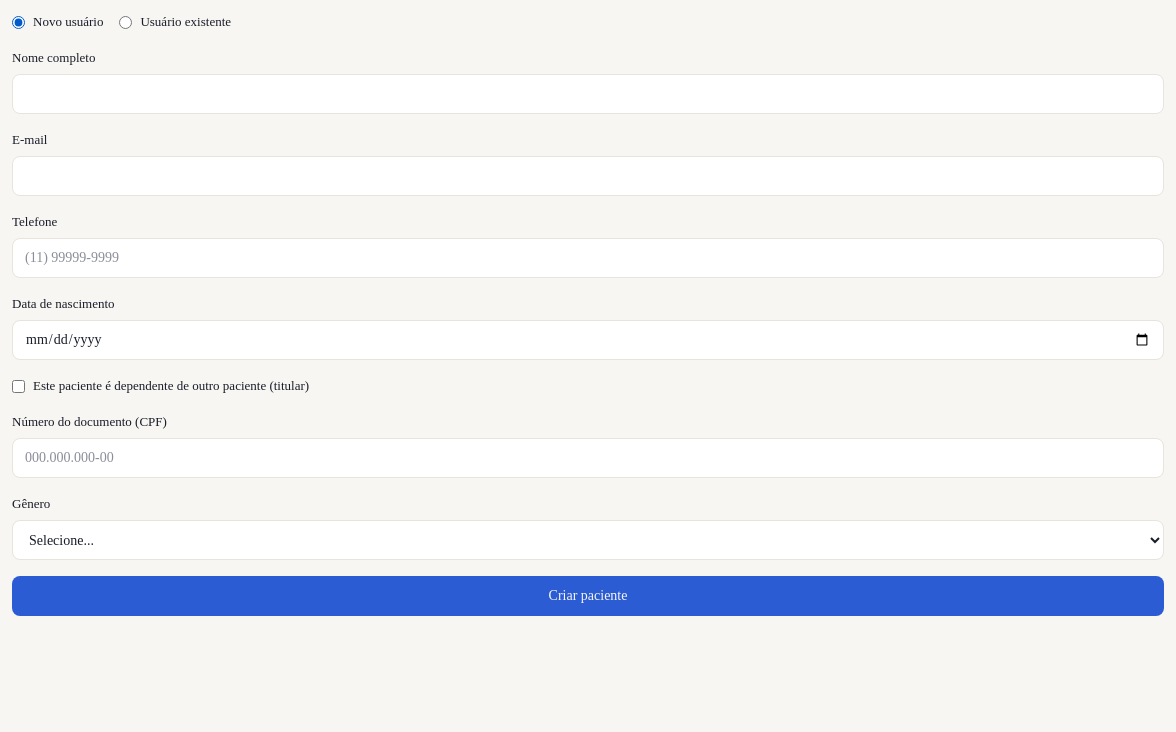
Test: PatientForm (integration) — create mode › switches back to new user mode and restores fullName/email fields
This screenshot has width=1176, height=732.
Click the radio button with test id "patient-form-user-mode-existing".
click(126, 22)  # box 119,16 -> 132,28
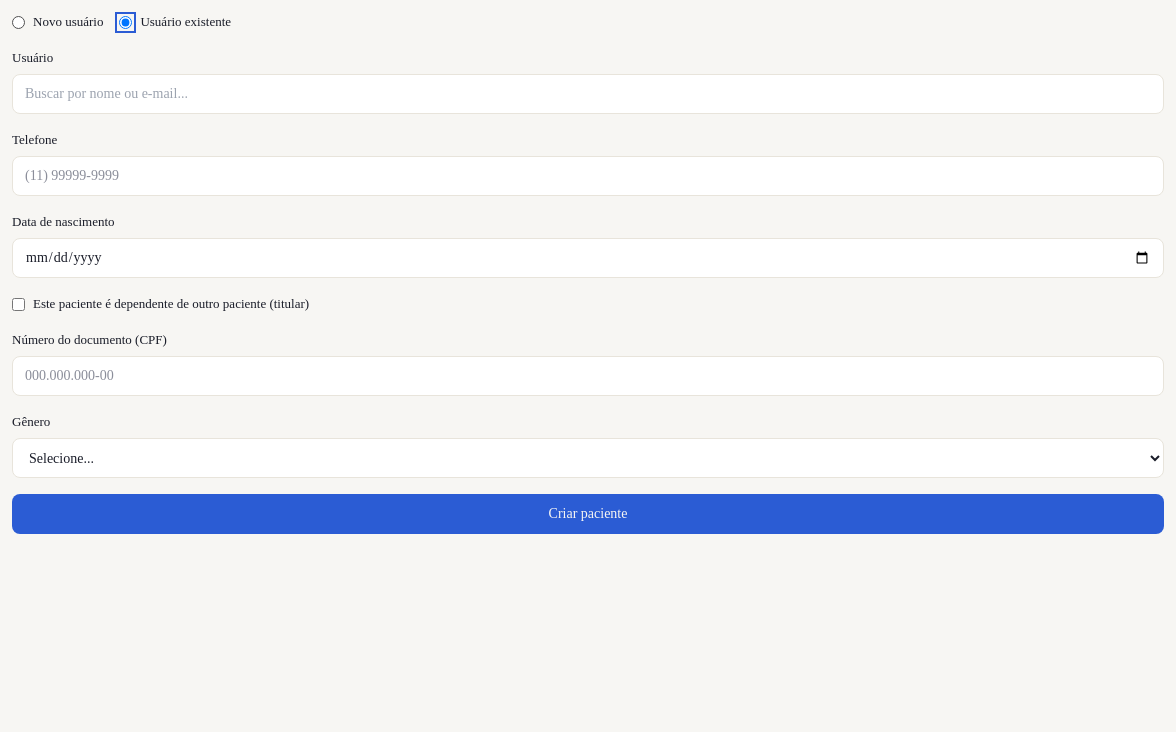
Expected: the field with test id "patient-form-fullname" is gone
Click the radio button with test id "patient-form-user-mode-new".
click(18, 22)  # box 12,16 -> 25,28
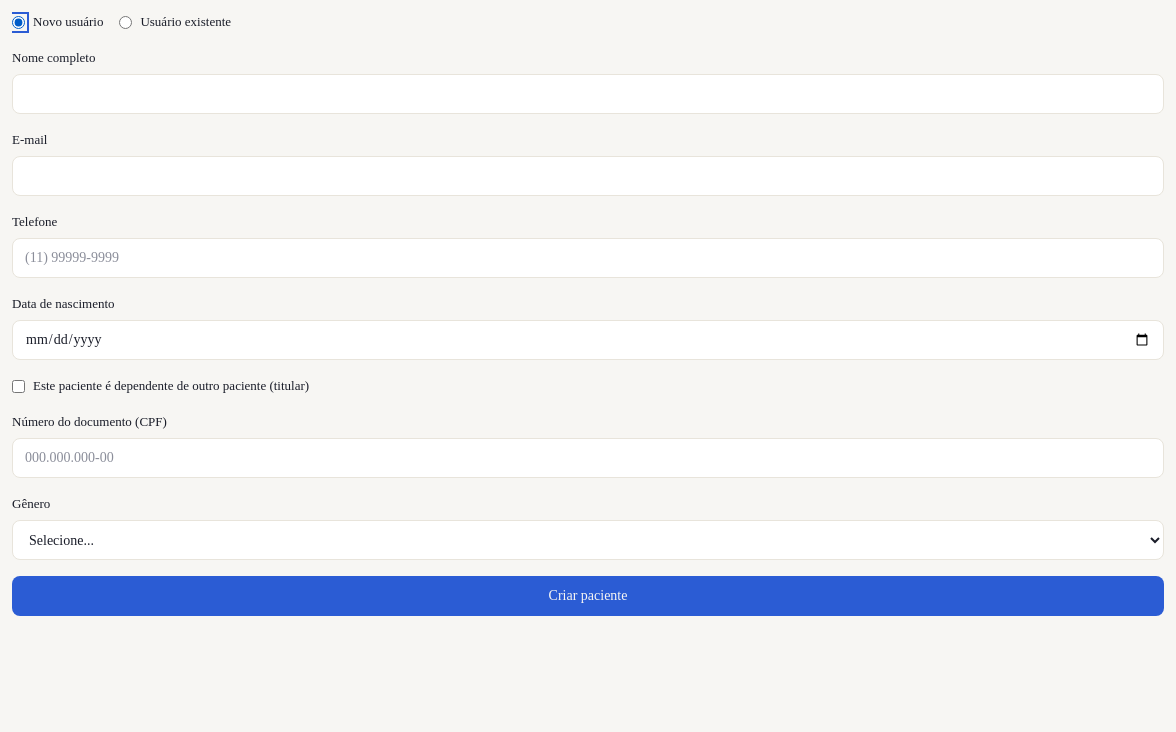
Expected: the field with test id "patient-form-fullname" is shown, 12,74 -> 1164,114
Expected: the field with test id "patient-form-email" is shown, 12,156 -> 1164,196
Expected: the field with test id "patient-form-user-search" is gone
